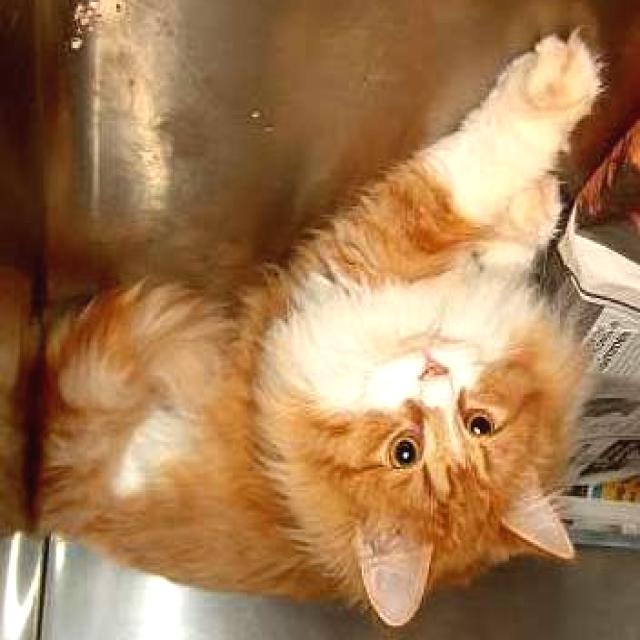Kucing: (23, 108, 640, 624)
